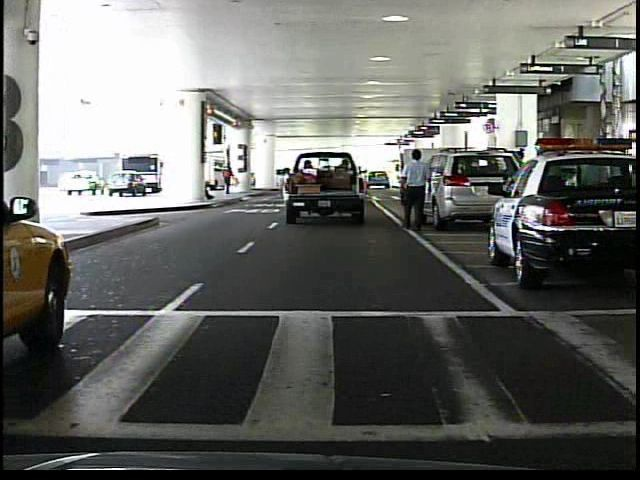person: (397, 145, 438, 231), (221, 160, 237, 197)
